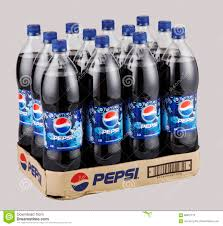bottle: (47, 40, 83, 169)
pepsi: (93, 171, 141, 184), (73, 173, 91, 194)
plastic: (49, 40, 82, 171)
